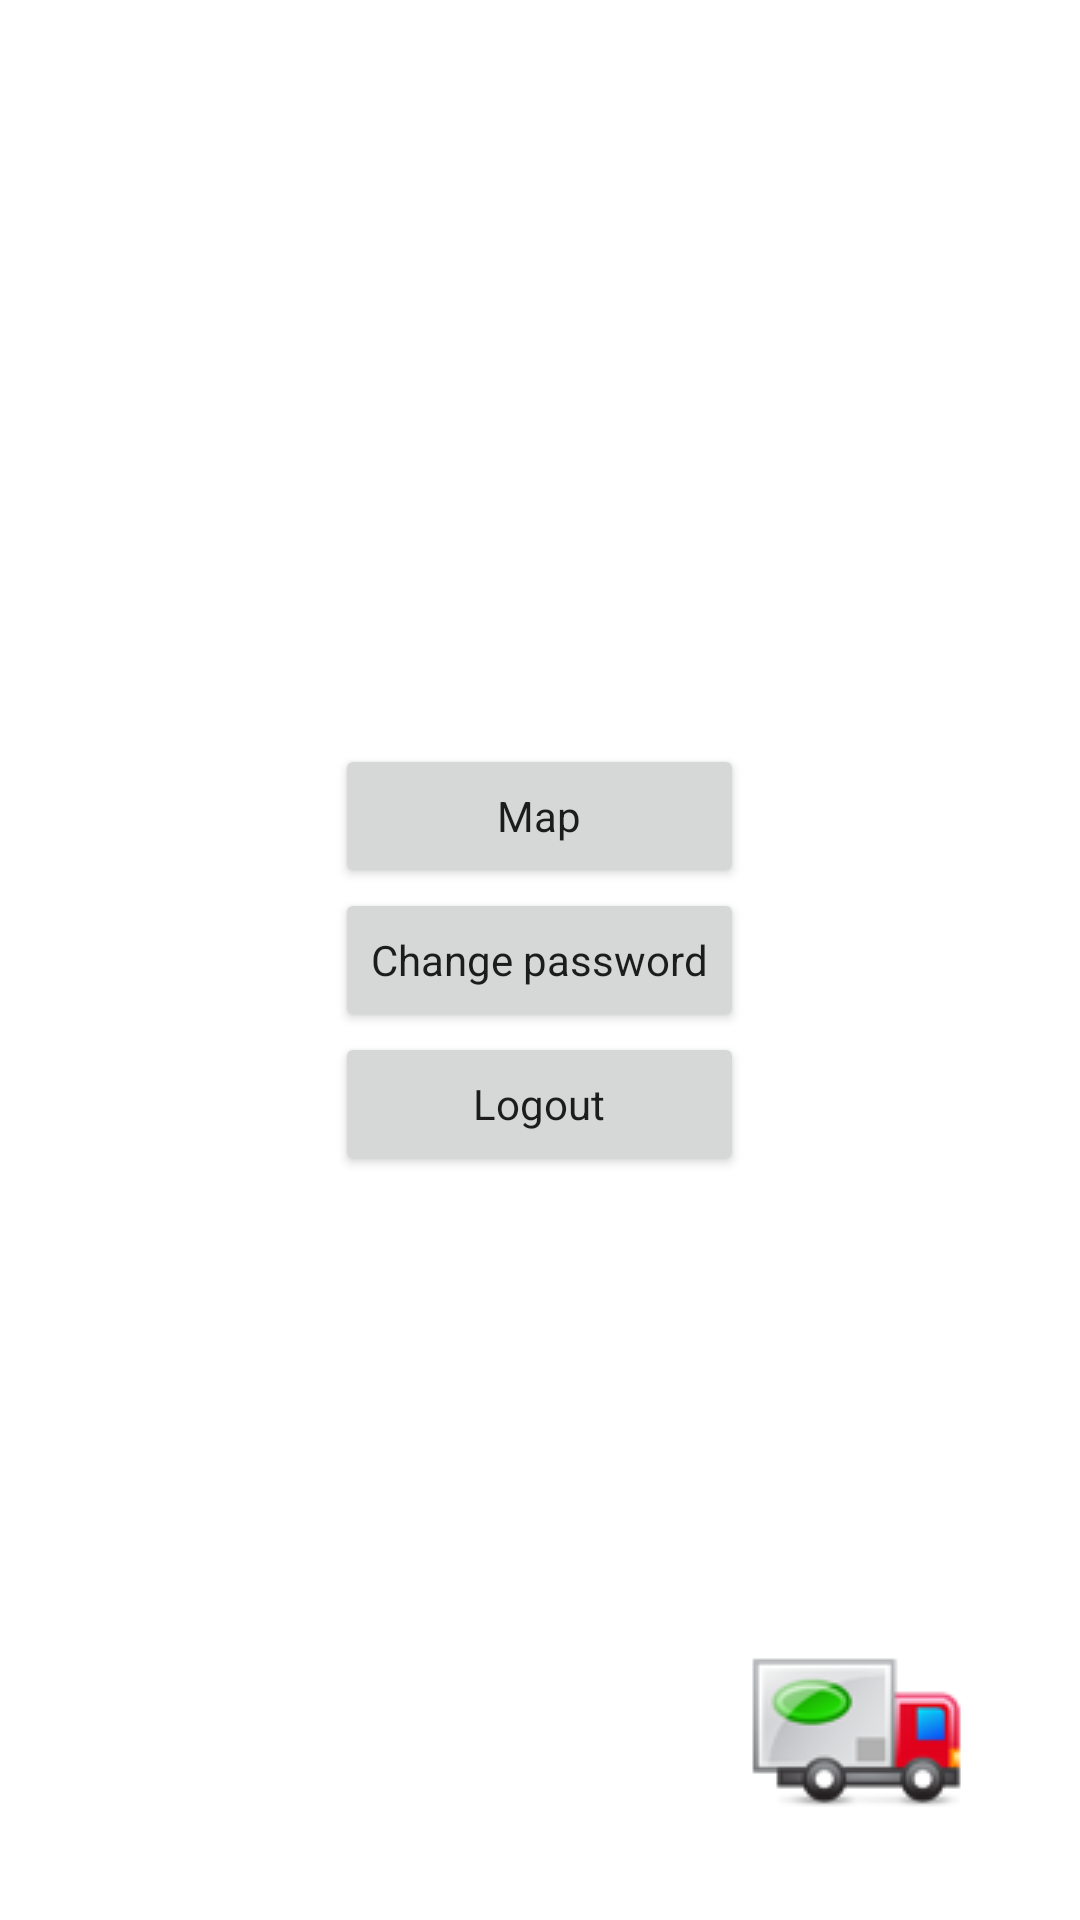

Where to tap for icons on this 1080*1920 app screen, as point (x, y):
truck medium: point (856, 1731)
